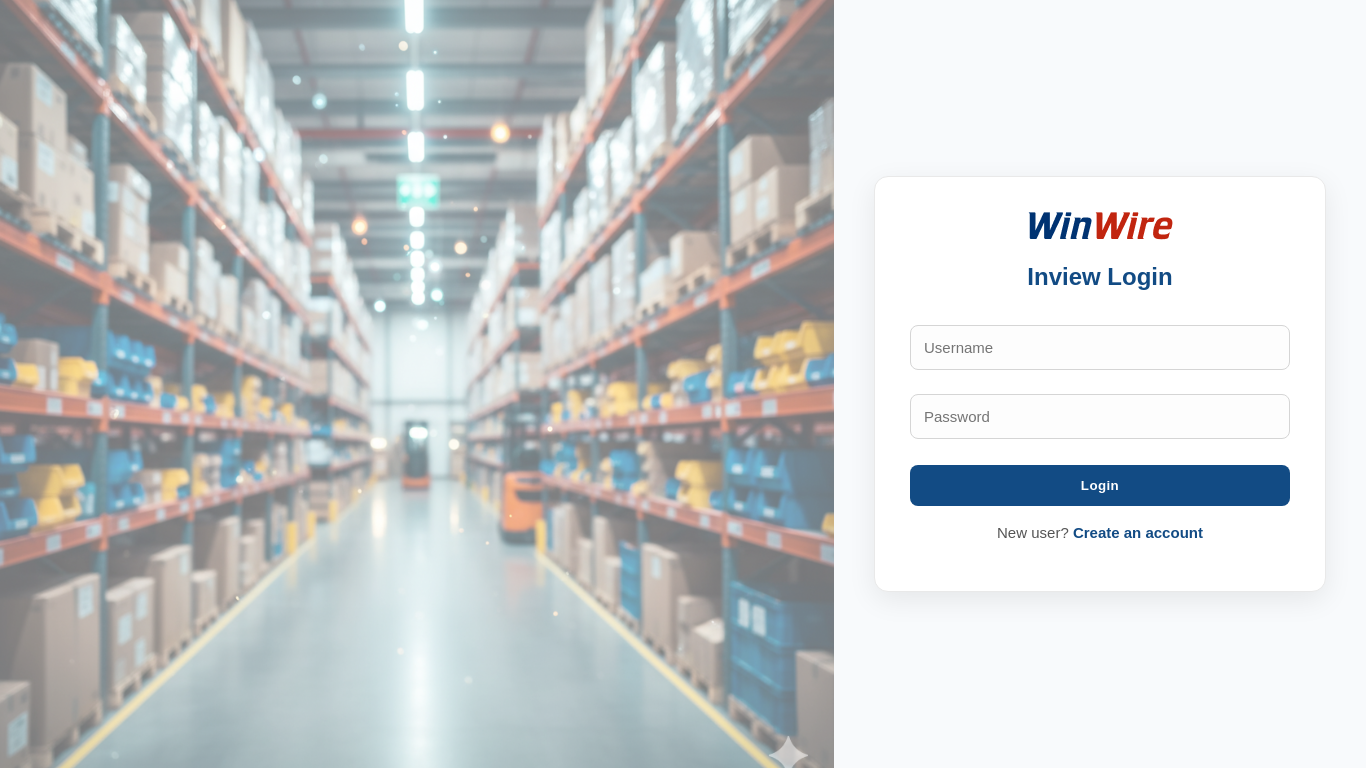
Test: displays API error message on login failure
The image size is (1366, 768).
Type "wronguser" into the field with placeholder "Username" at (1100, 348), box [910,326,1290,370]
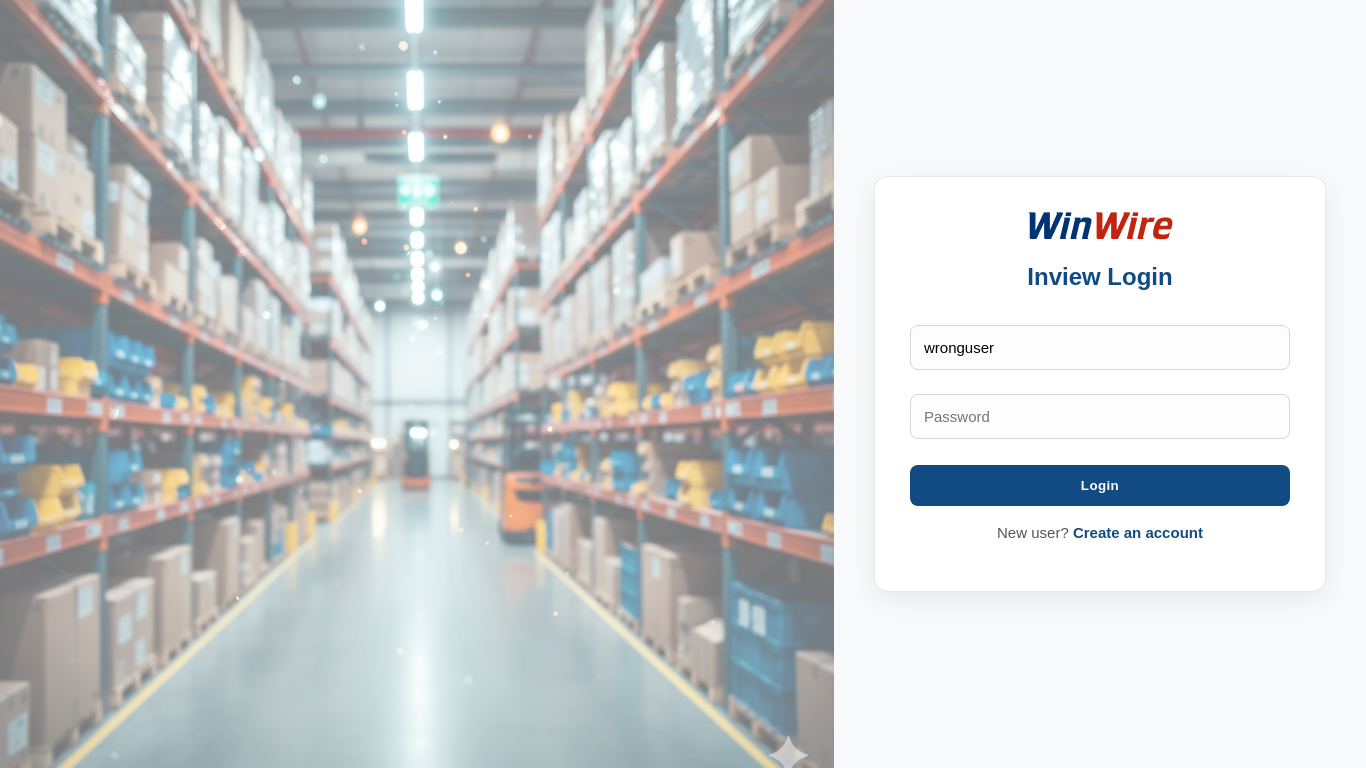
Type "wrongpass" into the password field with placeholder "Password" at (1100, 417), box [910,394,1290,440]
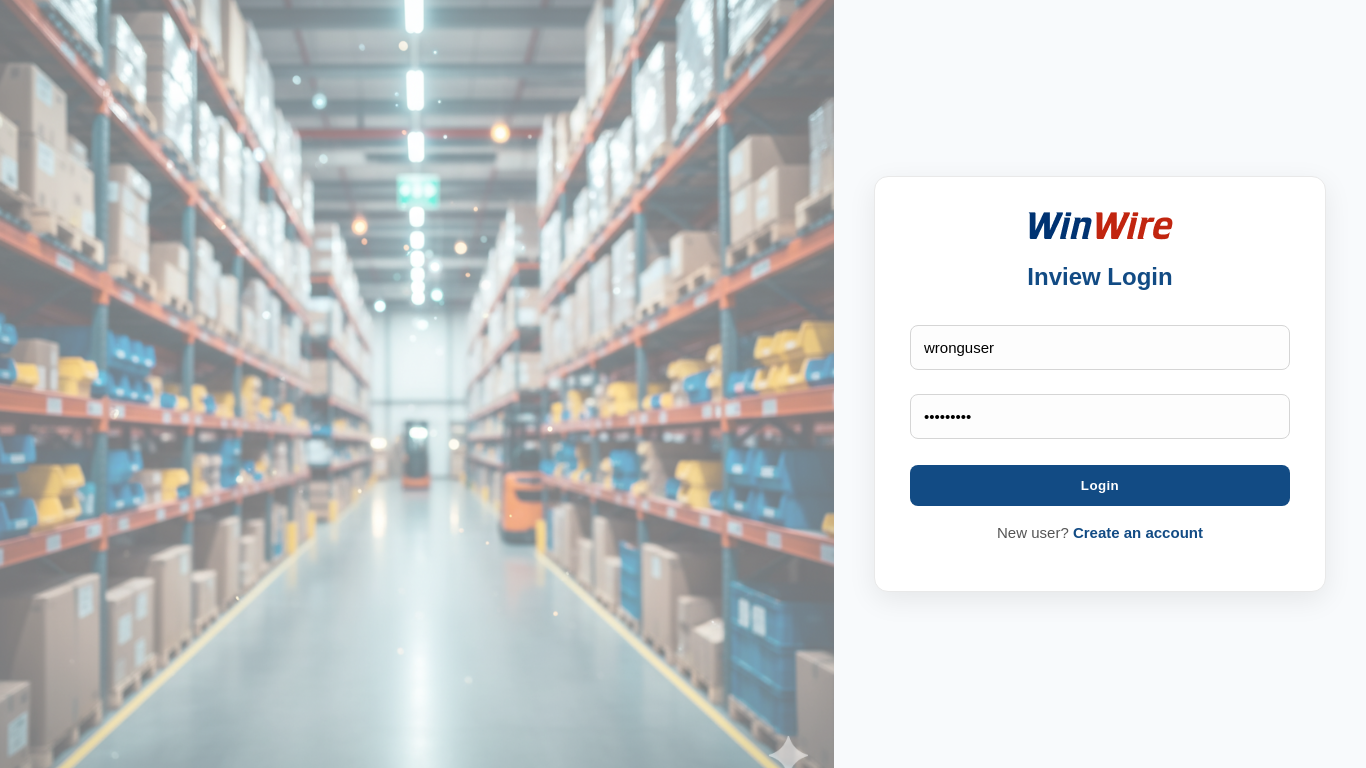
Click the button "Login" at (1100, 486), box [910,466,1290,506]
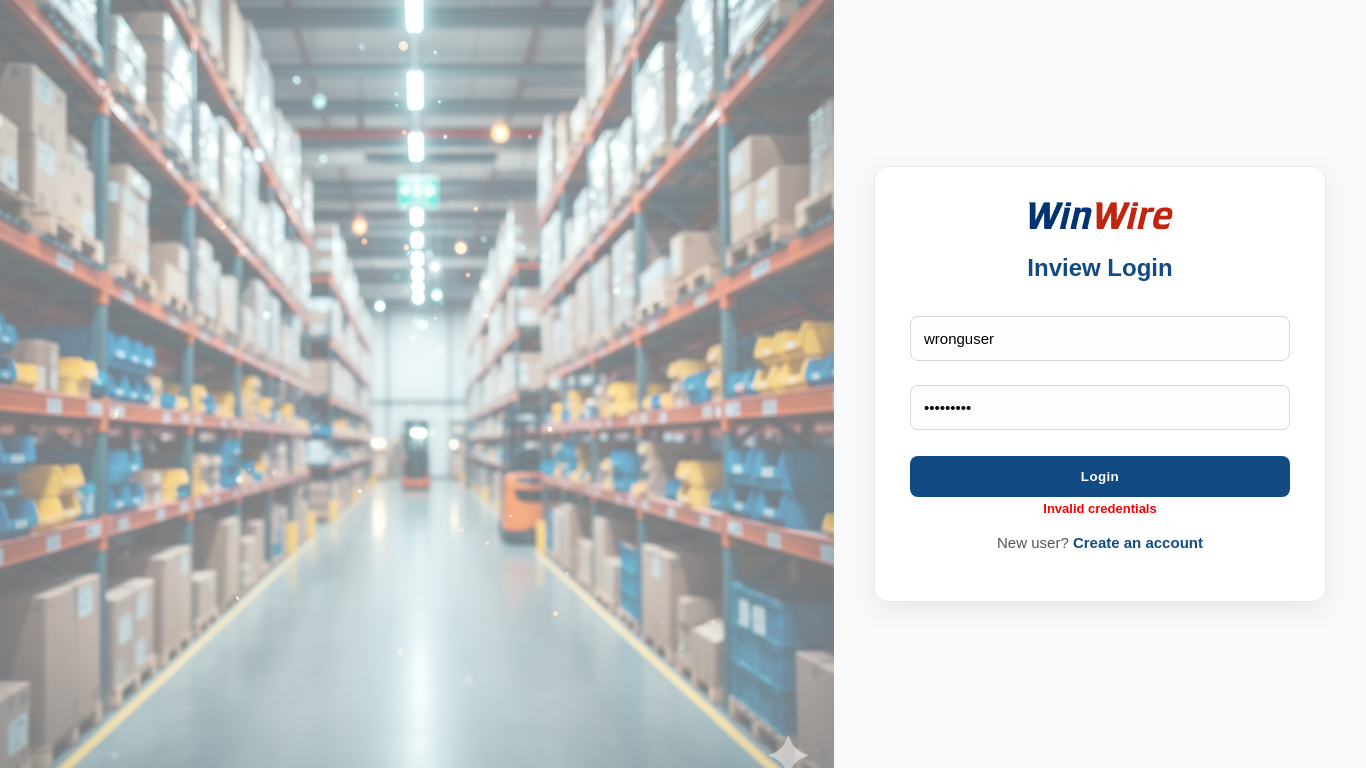
Check: the text "Invalid credentials" is shown, box [1043,501,1157,516]
